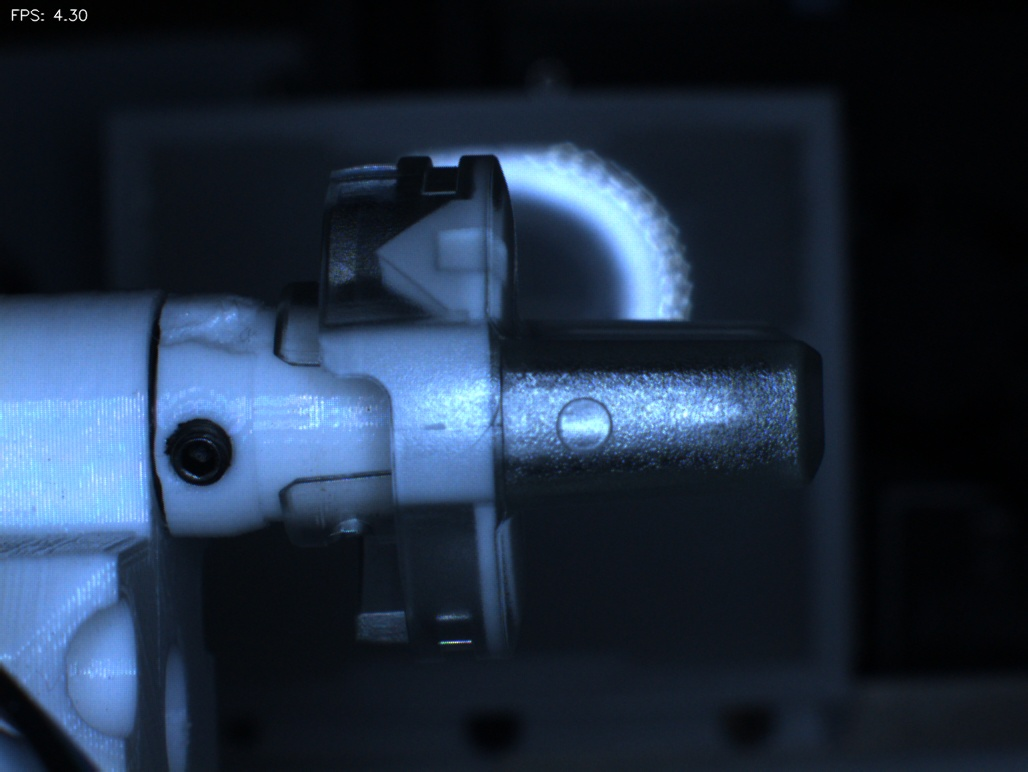DentOk: (350, 211, 430, 309)
